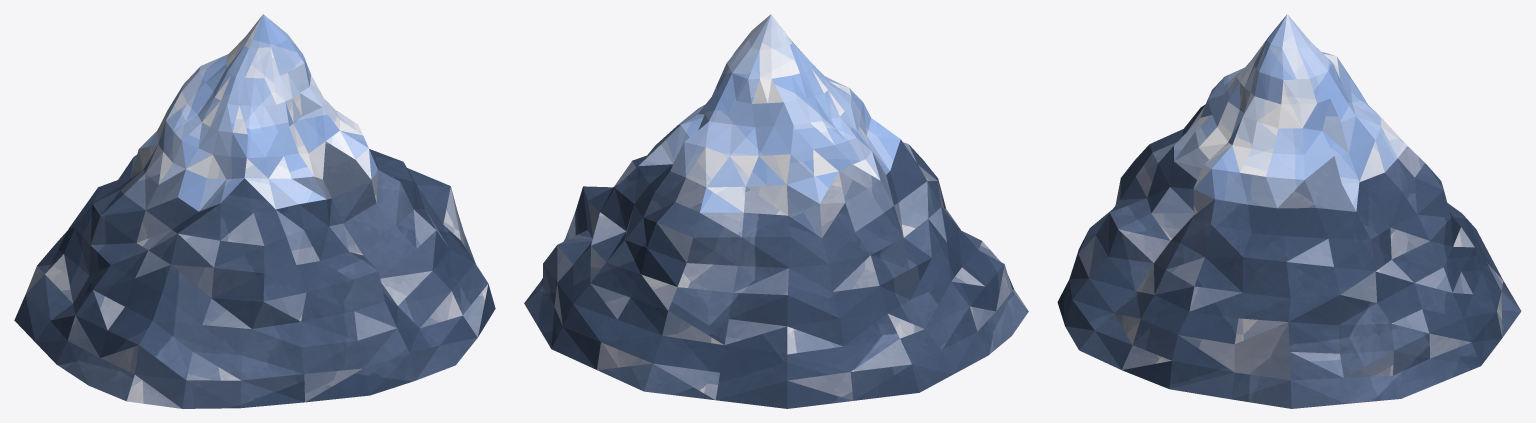
Rendered from Track_Mountain01.fbx.
3 views of the same model, side by side, from view 1: azimuth 30°, elevation 25°; view 2: azimuth 150°, elevation 25°; view 3: azimuth 270°, elevation 25° (orthographic).
Parts seen in each view (by area): view 1: Track_Mountain01; view 2: Track_Mountain01; view 3: Track_Mountain01.
Boxes of the visible parts, bbox=[...] form: Track_Mountain01: bbox=[14, 14, 495, 408]; Track_Mountain01: bbox=[524, 14, 1028, 408]; Track_Mountain01: bbox=[1057, 14, 1521, 408].
Size of the model in its own units: 77.08 by 51.56 by 73.64.
